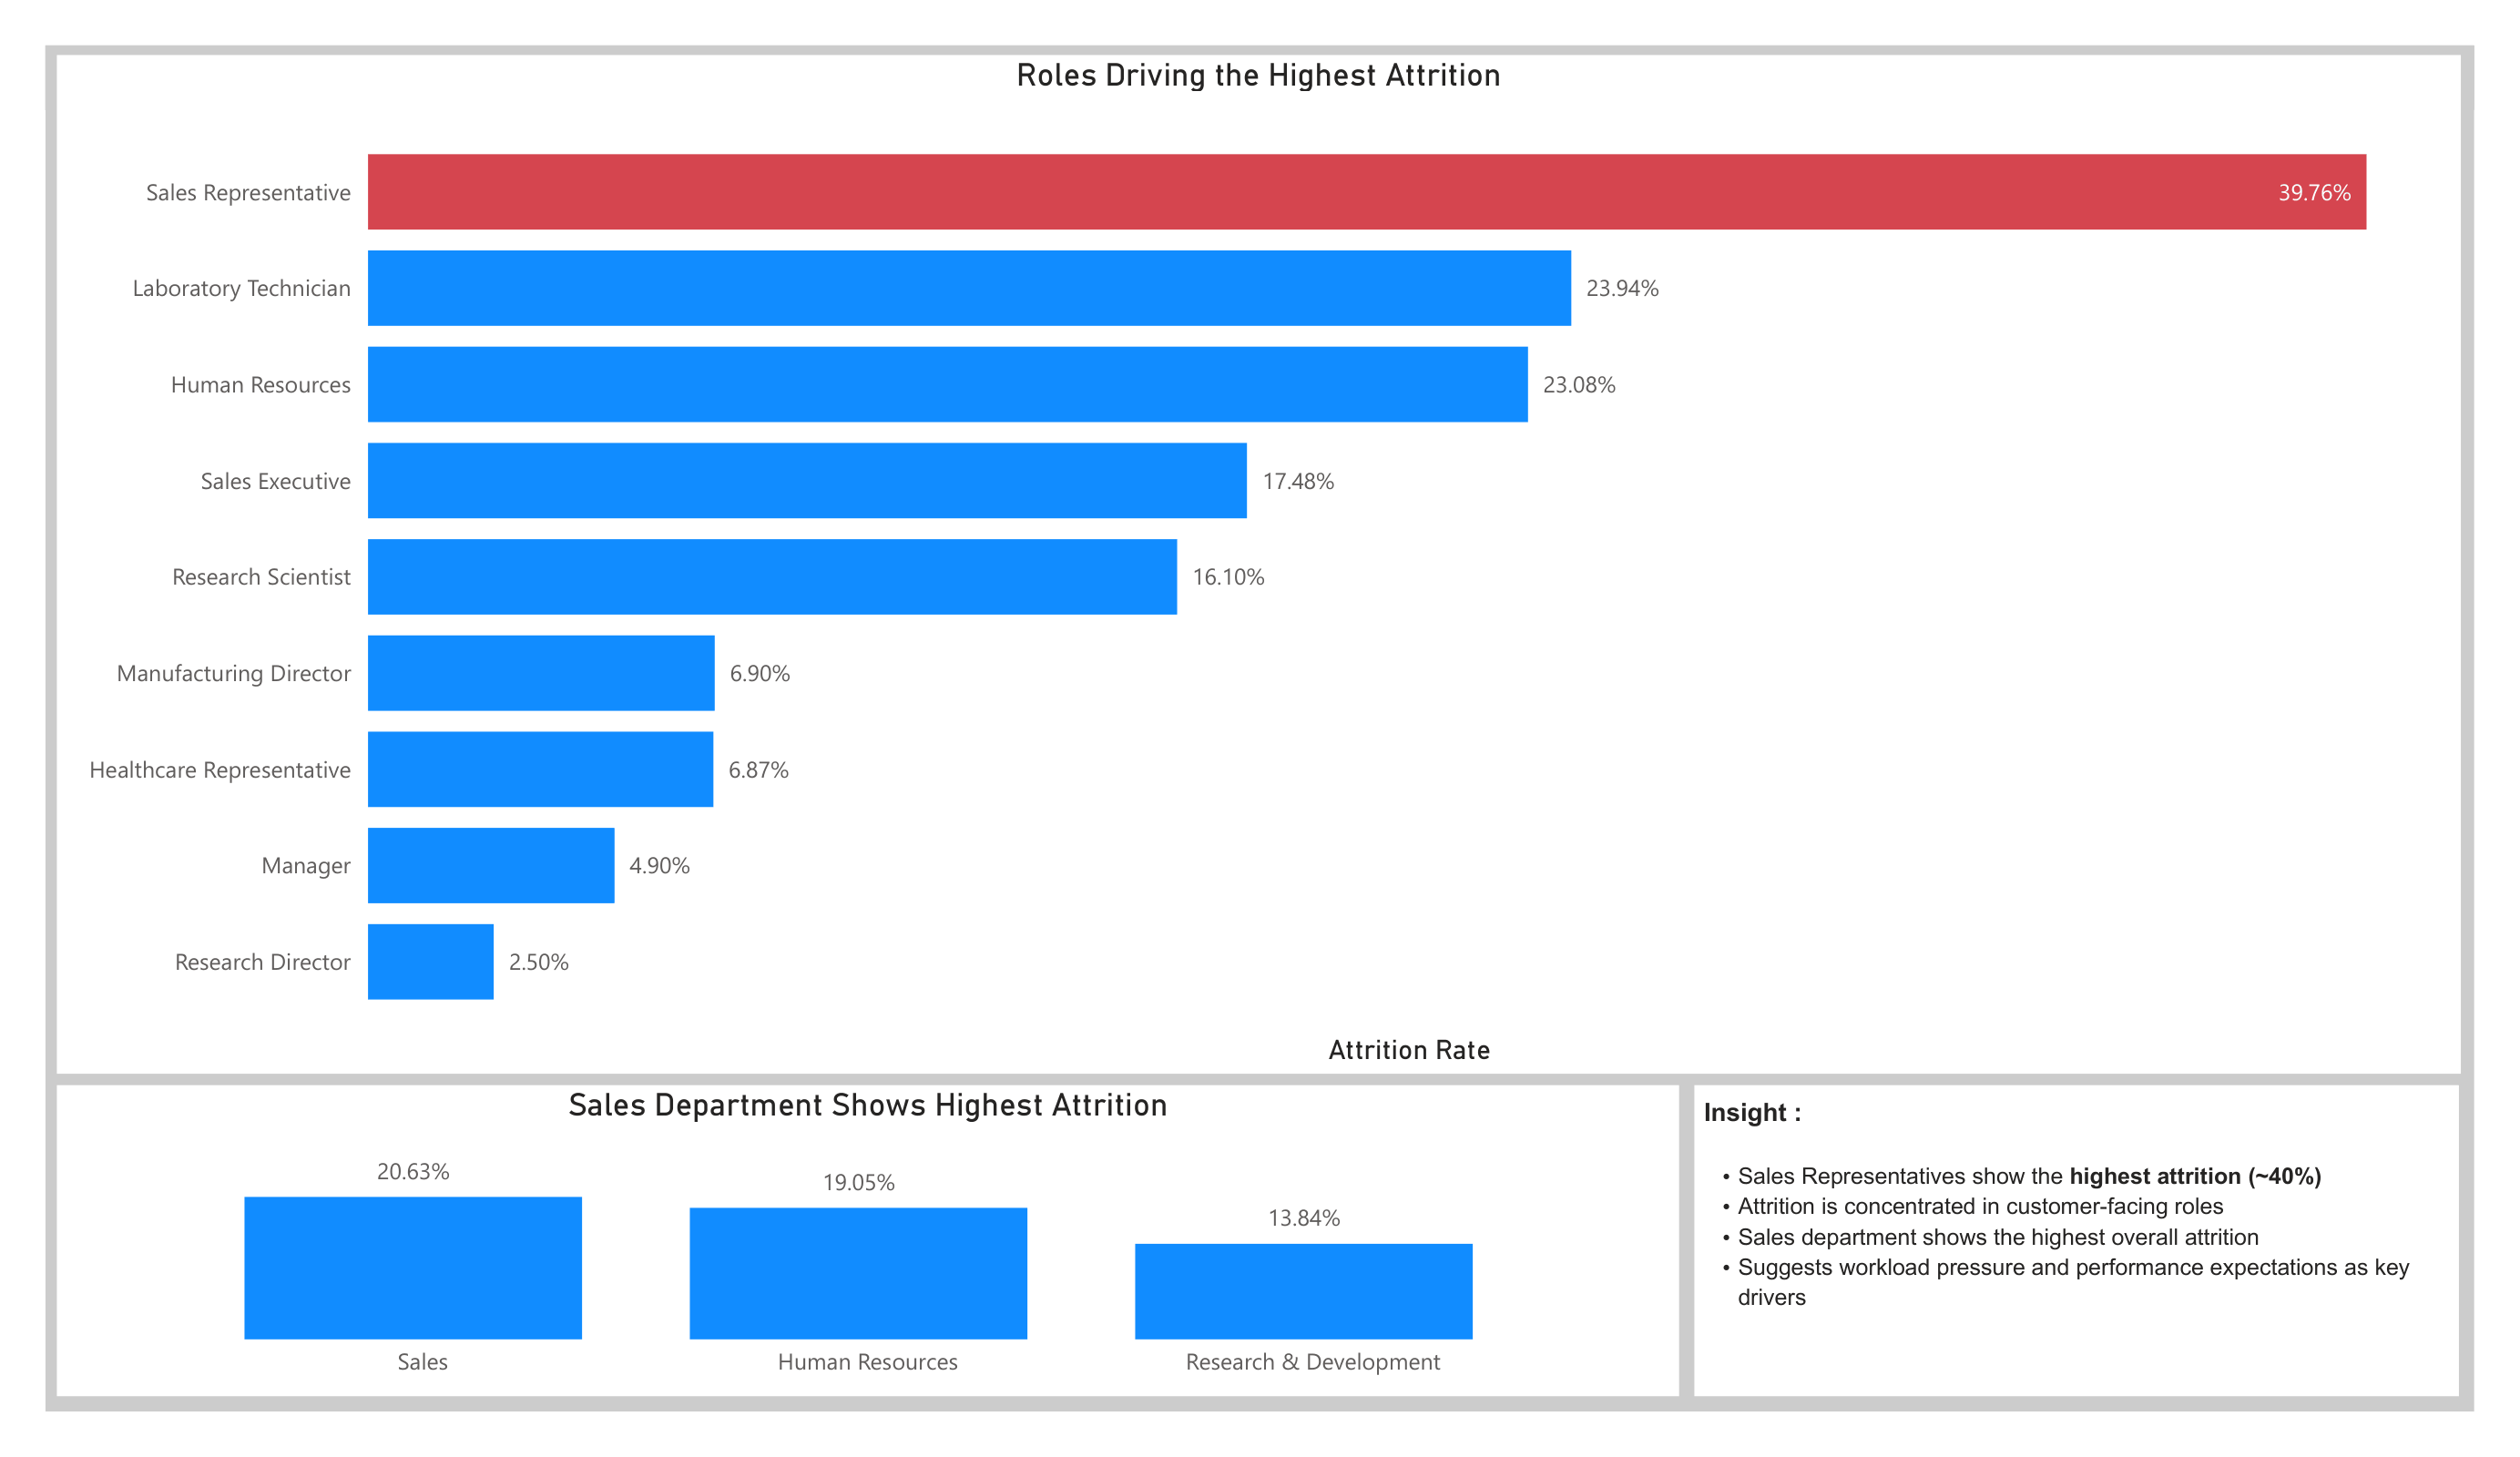

The page's visual inventory and layout, read from the dashboard file:
{"tool":"powerbi","page":{"name":"Where are They","canvas":[1280,720],"ordinal":2},"visuals":[{"type":"clusteredBarChart","title":"Roles Driving the Highest Attrition","fields":{"Category":["HR_Data1.JobRole"],"Y":["HR_Data1.Attrition Rate"]},"box":[6.4,5.5,1266.4,536.4],"z":0},{"type":"clusteredColumnChart","title":"Sales Department Shows Highest Attrition","fields":{"Category":["HR_Data1.Department"],"Y":["HR_Data1.Attrition Rate"]},"box":[6.4,548.2,854.5,163.6],"z":1000},{"type":"textbox","box":[869.1,548.2,402.7,163.6],"z":2000}]}

Visuals, with their boxes on the page's 1280x720 design canvas (x1, y1, x2, y2). These are canvas units, not pixel positions in the 2520x1457 screenshot, which may show the page scaled, cropped or inside an application window:
"Roles Driving the Highest Attrition" clusteredBarChart: <box>6,6,1273,542</box>
"Sales Department Shows Highest Attrition" clusteredColumnChart: <box>6,548,861,712</box>
textbox: <box>869,548,1272,712</box>
